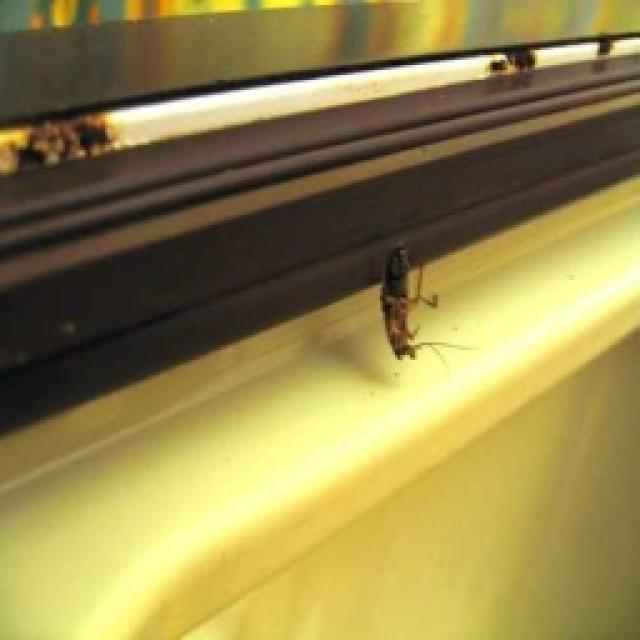cockroach: (373, 236, 446, 365)
